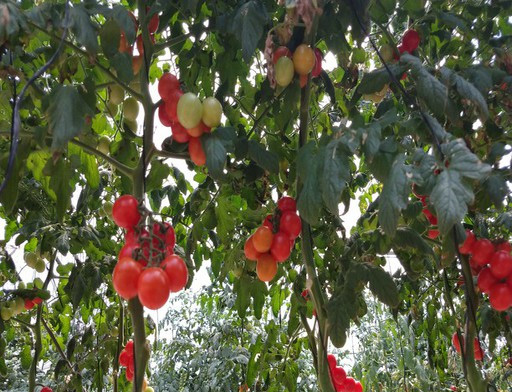mixed tomato bunch: (104, 8, 160, 132), (160, 71, 223, 165), (268, 41, 322, 89), (379, 28, 421, 79), (1, 284, 47, 321)
red tomato bunch: (111, 195, 188, 309), (242, 196, 301, 277), (458, 229, 512, 313), (411, 157, 460, 240), (317, 354, 362, 392), (116, 339, 152, 380)
